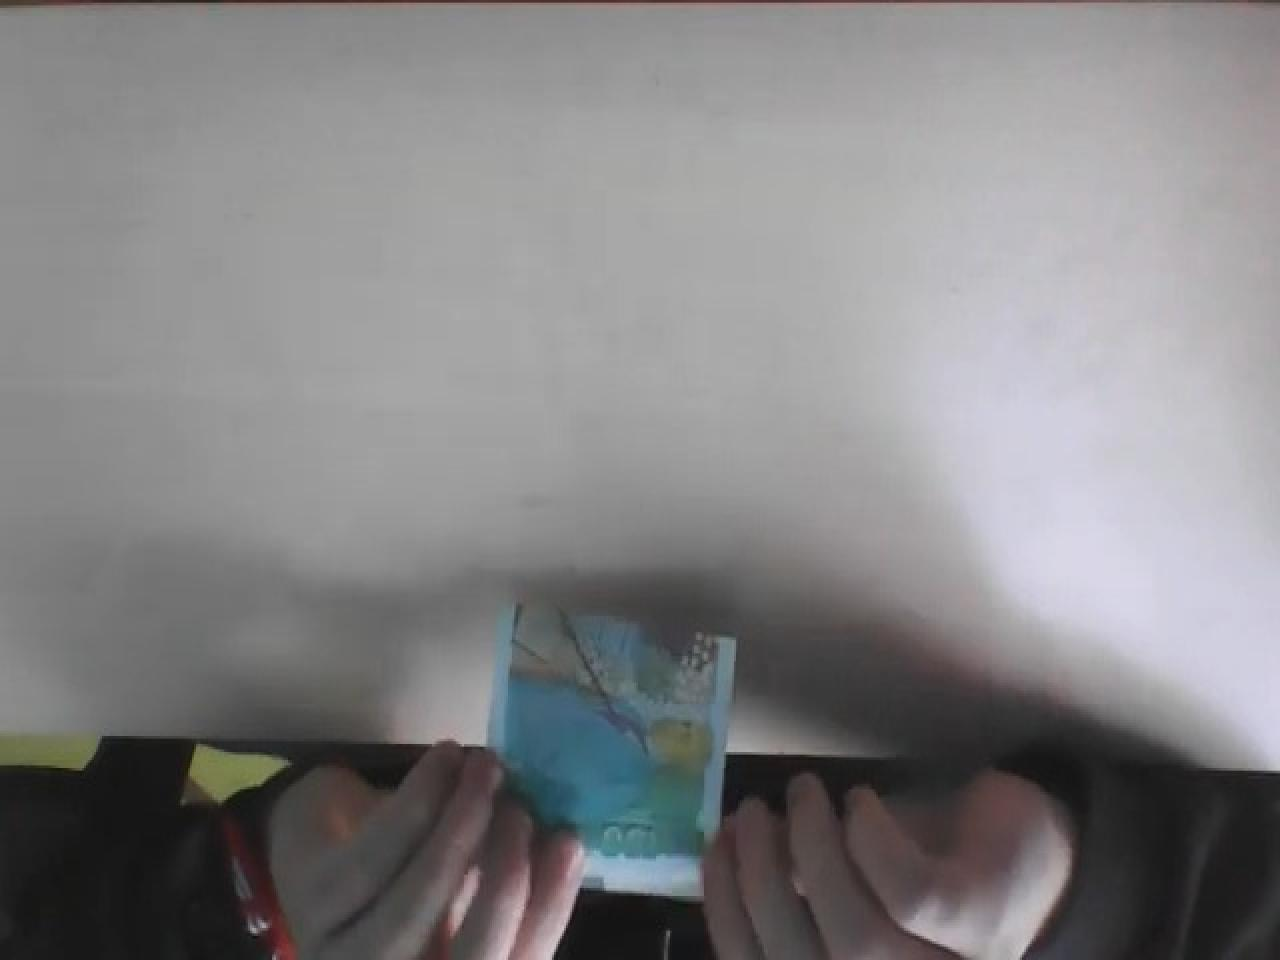100leva: (488, 597, 740, 902)
